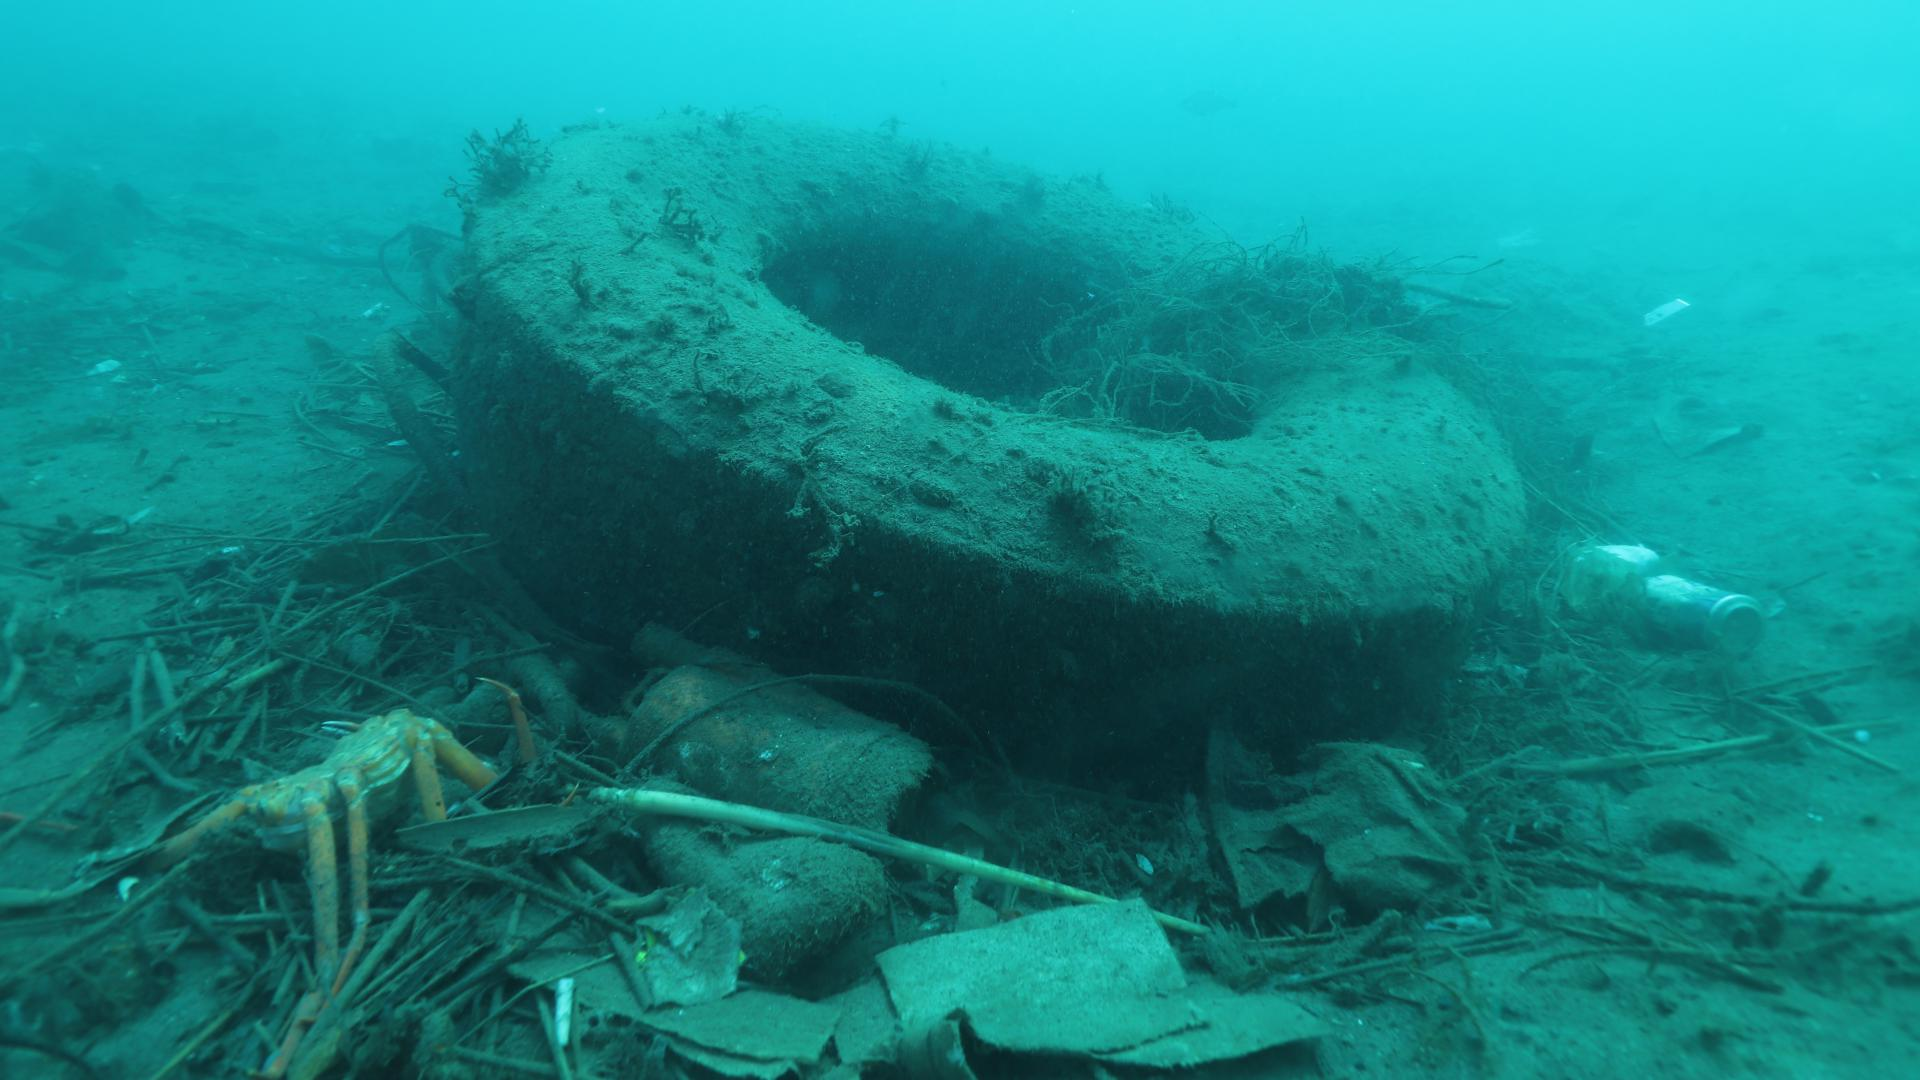tire: (462, 109, 1526, 793)
